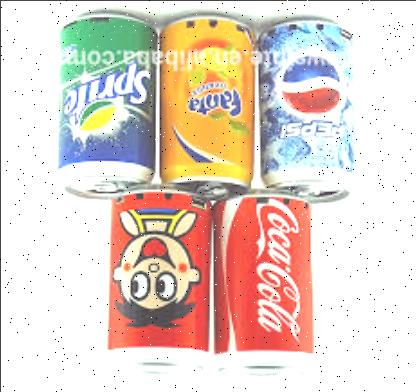Can: (104, 189, 209, 374), (56, 8, 158, 198), (258, 17, 357, 203), (157, 12, 254, 199), (216, 194, 315, 376)
